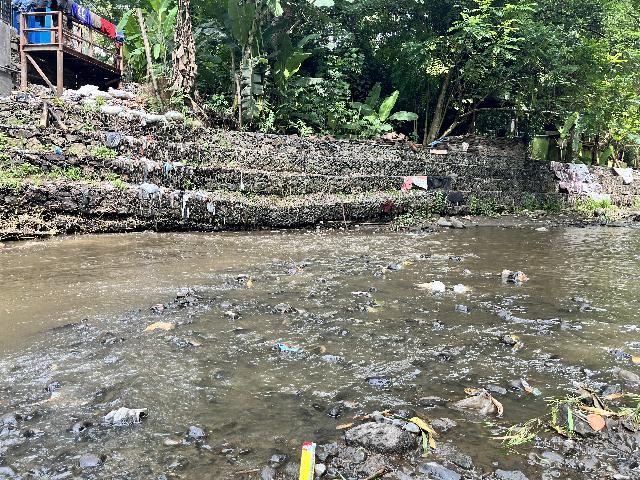Sampah Anorganik: (459, 387, 505, 420), (269, 339, 304, 358), (300, 438, 315, 480), (500, 267, 531, 287), (414, 278, 447, 292), (519, 378, 541, 396), (349, 288, 374, 298), (453, 281, 470, 294), (315, 277, 328, 286), (401, 261, 413, 265)
Sampah Organik: (560, 386, 640, 442), (384, 406, 445, 456), (505, 417, 540, 447), (20, 394, 60, 407), (140, 320, 176, 334), (505, 331, 522, 345), (352, 304, 374, 313), (148, 302, 166, 312), (332, 421, 355, 428), (310, 345, 327, 354), (233, 468, 261, 473), (630, 355, 640, 366), (244, 277, 253, 287), (295, 265, 305, 273), (280, 307, 290, 313), (317, 291, 331, 295), (373, 300, 384, 305), (381, 268, 386, 273)
